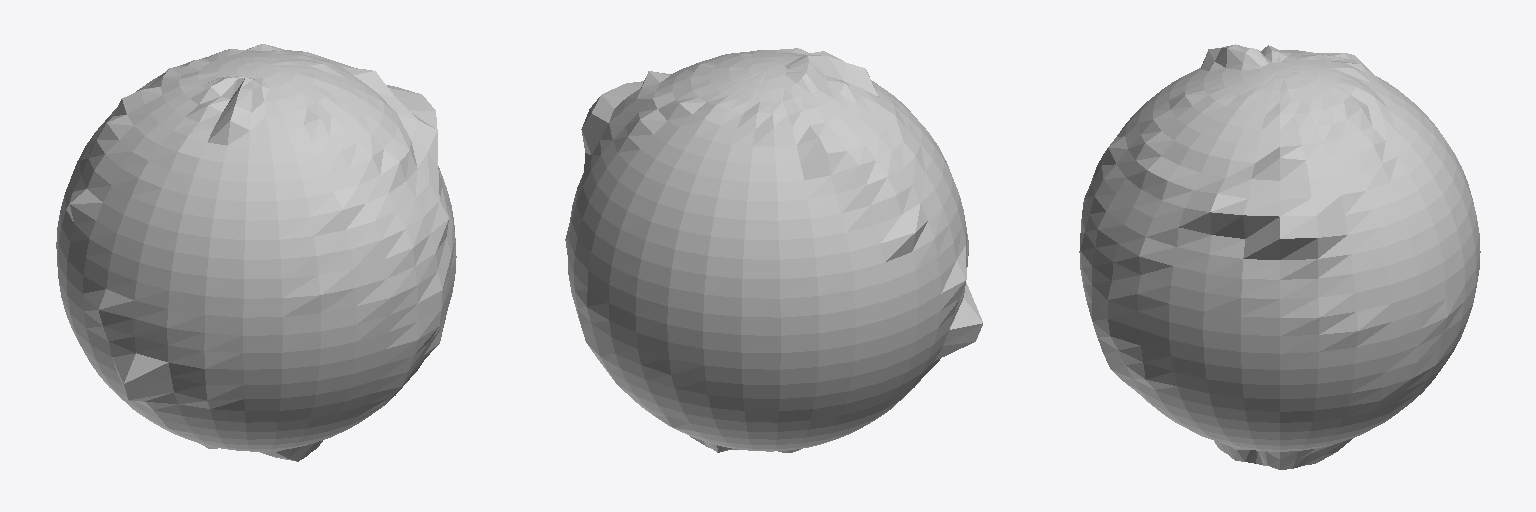
Rendered from topoEarth.obj.
3 renders of one model, left to right at view 1: azimuth 30°, elevation 25°; view 2: azimuth 150°, elevation 25°; view 3: azimuth 270°, elevation 25°, orthographic.
Visible parts, largest first — view 1: Plane; view 2: Plane; view 3: Plane.
Part boxes in pixels (left/top/right/bottom): Plane: left=56, top=44, right=456, bottom=461; Plane: left=565, top=48, right=982, bottom=452; Plane: left=1079, top=44, right=1480, bottom=469.
Bounding box in the file's own units: 238 × 249 × 232.